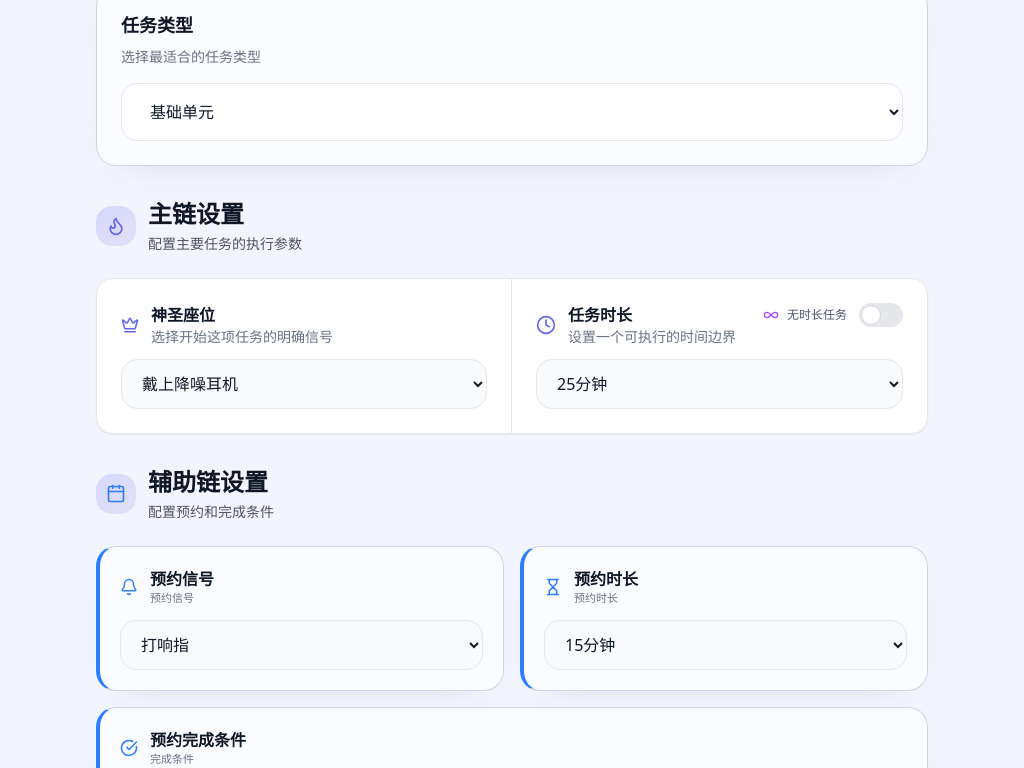
Test: ChainEditor form behavior and accessibility › updates the custom duration slider and exposes its range semantics
(page scrolled)
Select "自定义时长" in the dropdown with id "task-duration". click: (720, 384)
box: [536,359,903,409]
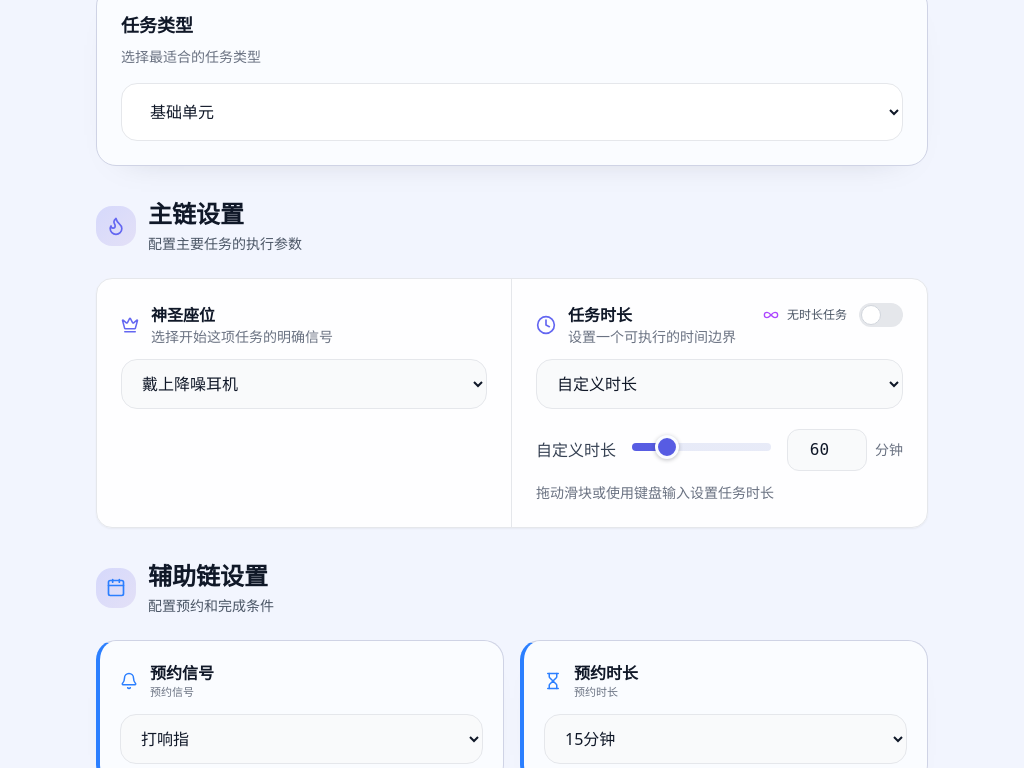
Set the slider labelled "自定义时长" to "120". click: (689, 447)
box: [632,425,771,469]
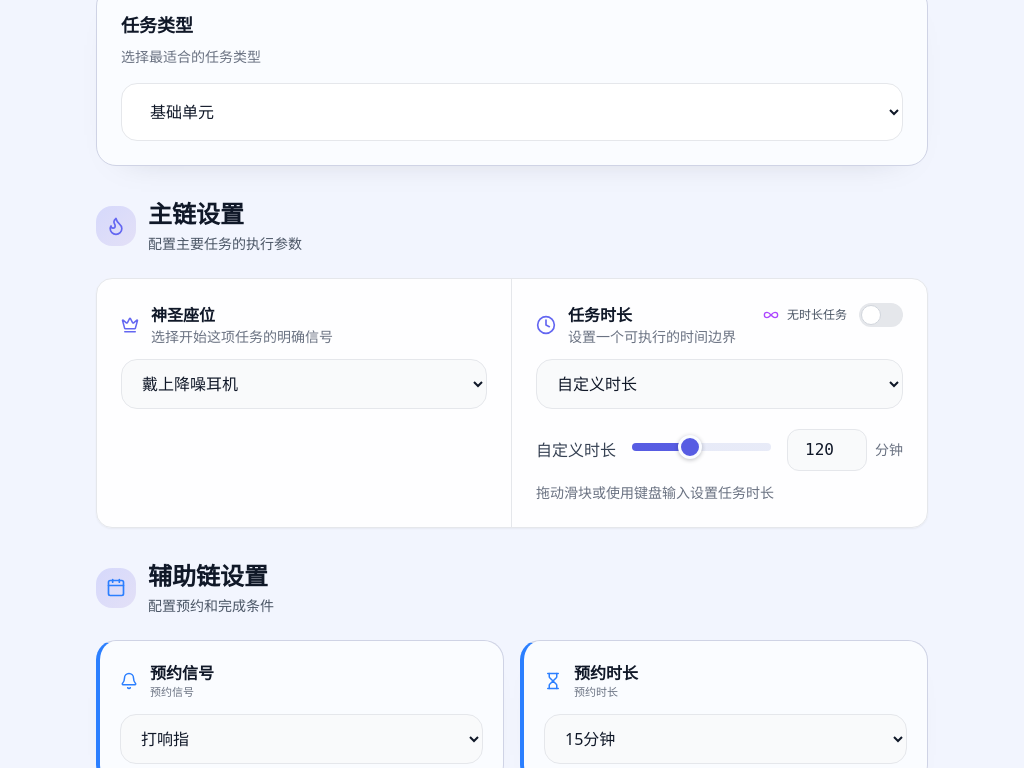
Result: the slider labelled "自定义时长" has attribute aria-valuenow="120" at [632,425,771,469]
